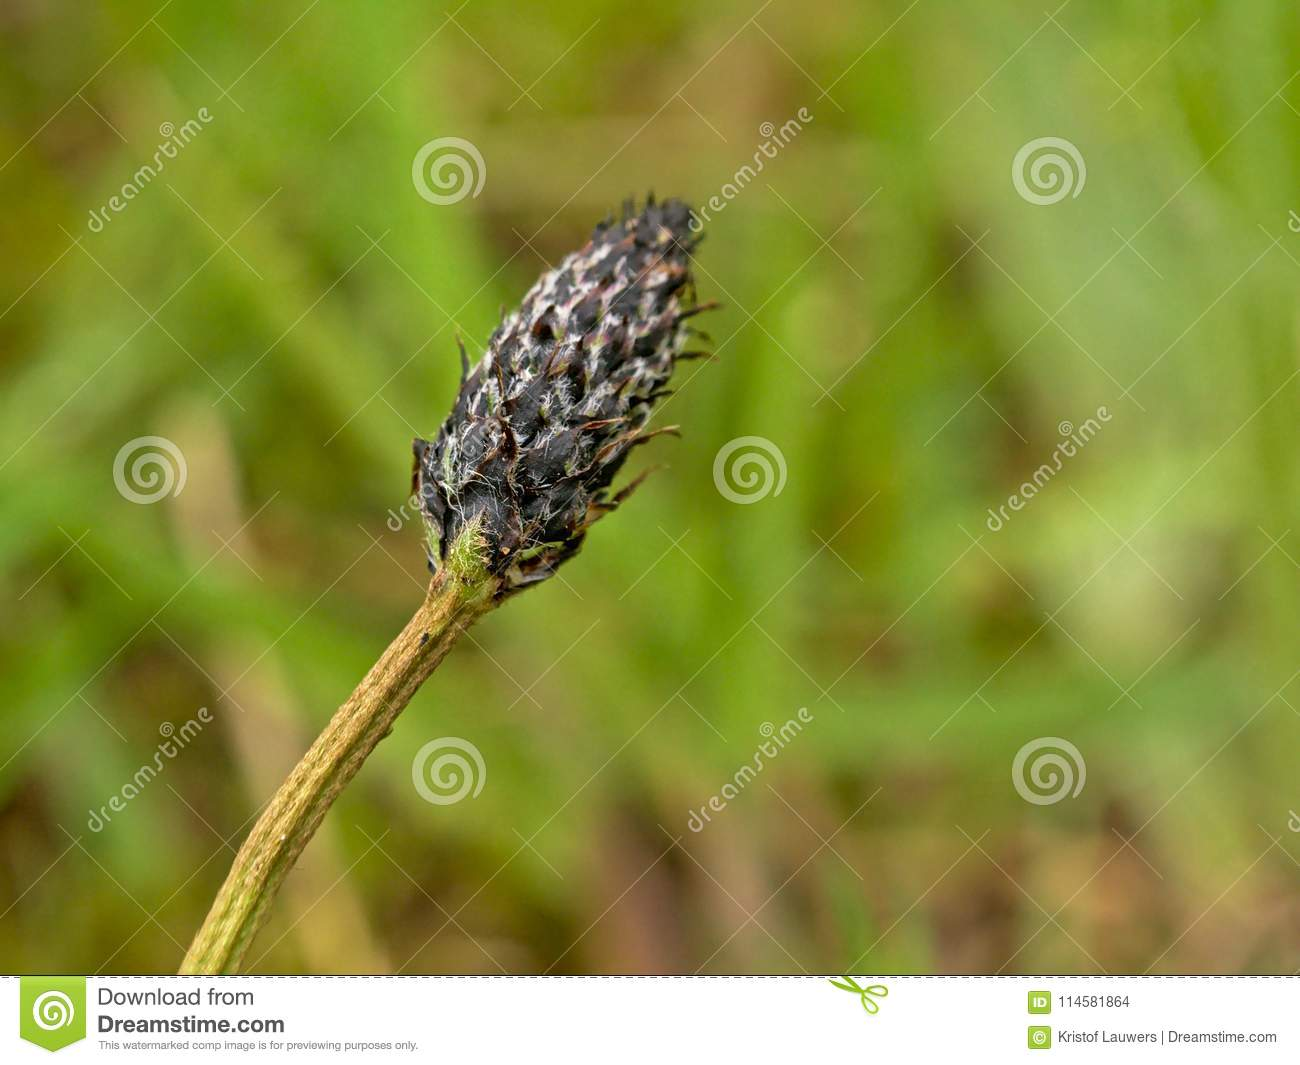buckhorn plantain: (240, 170, 758, 800)
